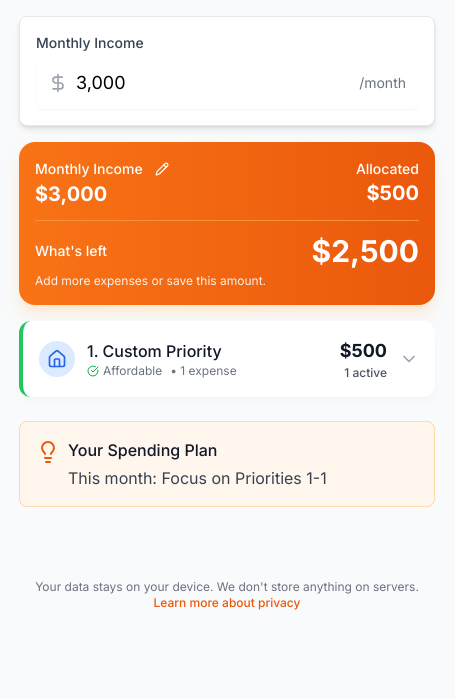
it: BudgetApp - Budget Calculation Logic › Priority Persistence › should load saved priorities from localStorage on mount
Expected: the heading "1. Custom Priority" is shown, [87,339,237,363]
Step 1. Click the button "1. Custom Priority Affordable • 1 expense $500 1 active" → coordinates (57, 359), box [23,321,435,397]
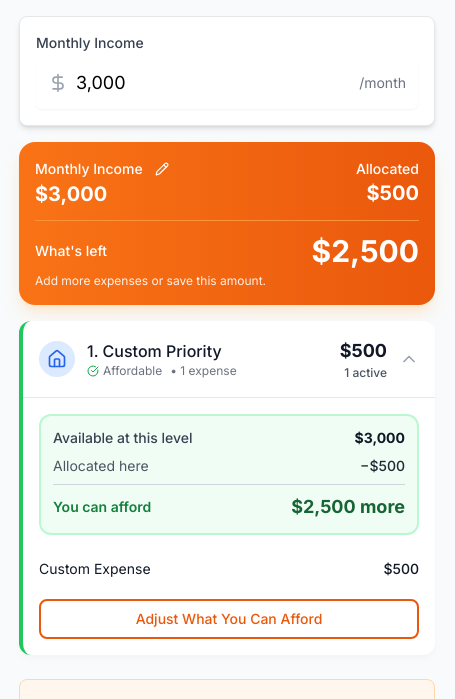
Expected: the text "Custom Expense" is shown, [39,559,151,579]
